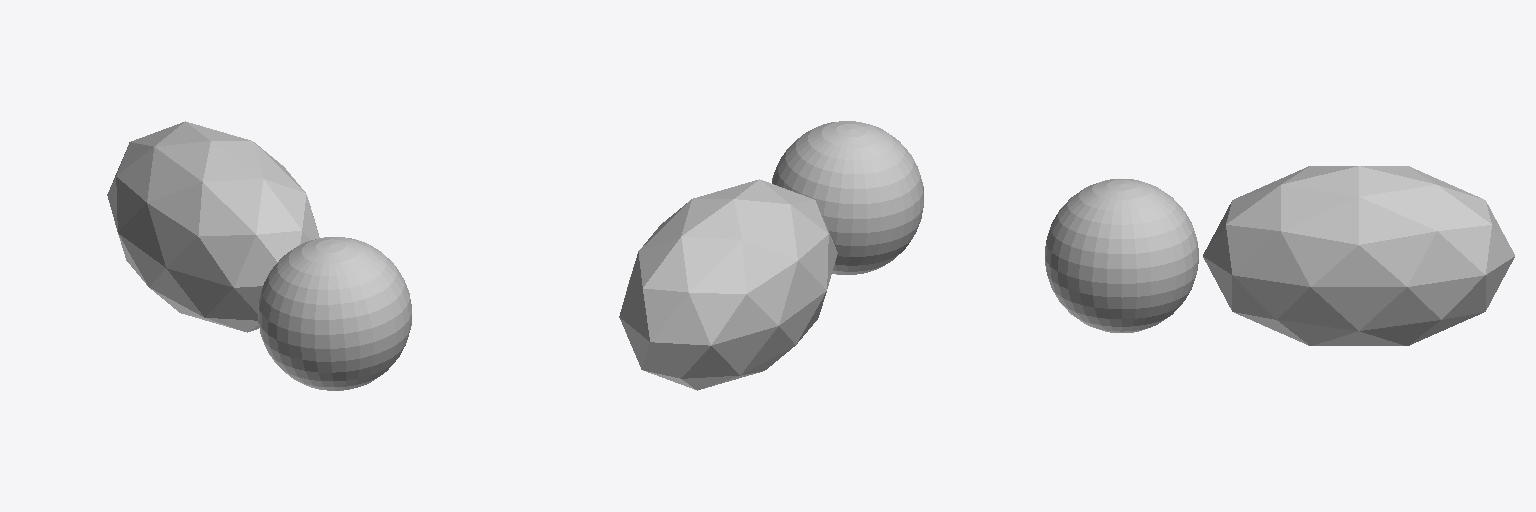
Rendered from human_low_poly.obj.
3 views of the same model, side by side, from view 1: azimuth 30°, elevation 25°; view 2: azimuth 150°, elevation 25°; view 3: azimuth 270°, elevation 25° (orthographic).
Visible parts, largest first — view 1: Icosphere, Sphere; view 2: Icosphere, Sphere; view 3: Icosphere, Sphere.
Part boxes in pixels (x1,y1,x2,y2): Icosphere: (107, 121, 319, 332); Sphere: (258, 237, 411, 390); Icosphere: (619, 179, 837, 390); Sphere: (772, 121, 923, 274); Icosphere: (1203, 166, 1514, 345); Sphere: (1045, 179, 1198, 332).
Bounding box in the file's own units: 1.78 × 2 × 4.88.